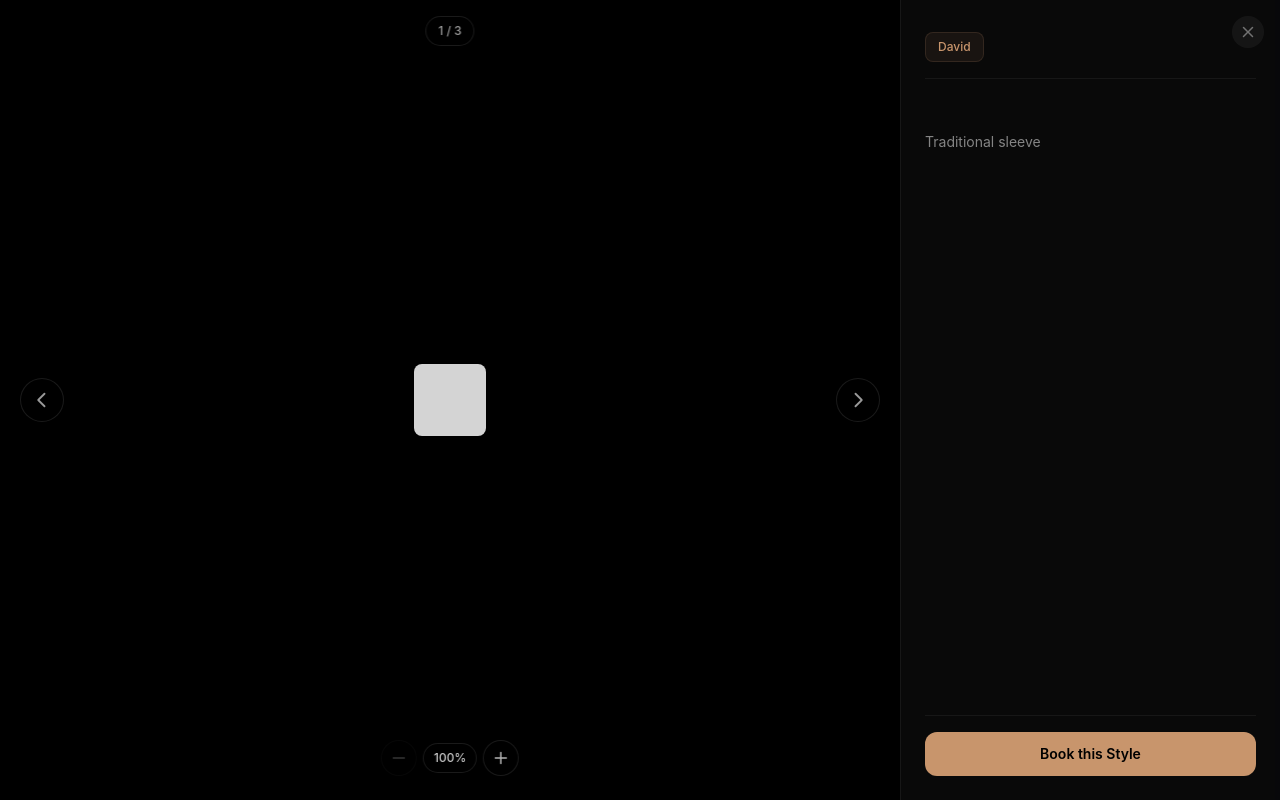
Test: PhotoLightbox Component › Zoom Controls › should disable zoom in at 300%
This screenshot has width=1280, height=800.
Click the button named "Zoom in": click(501, 758) [483, 740, 519, 776]
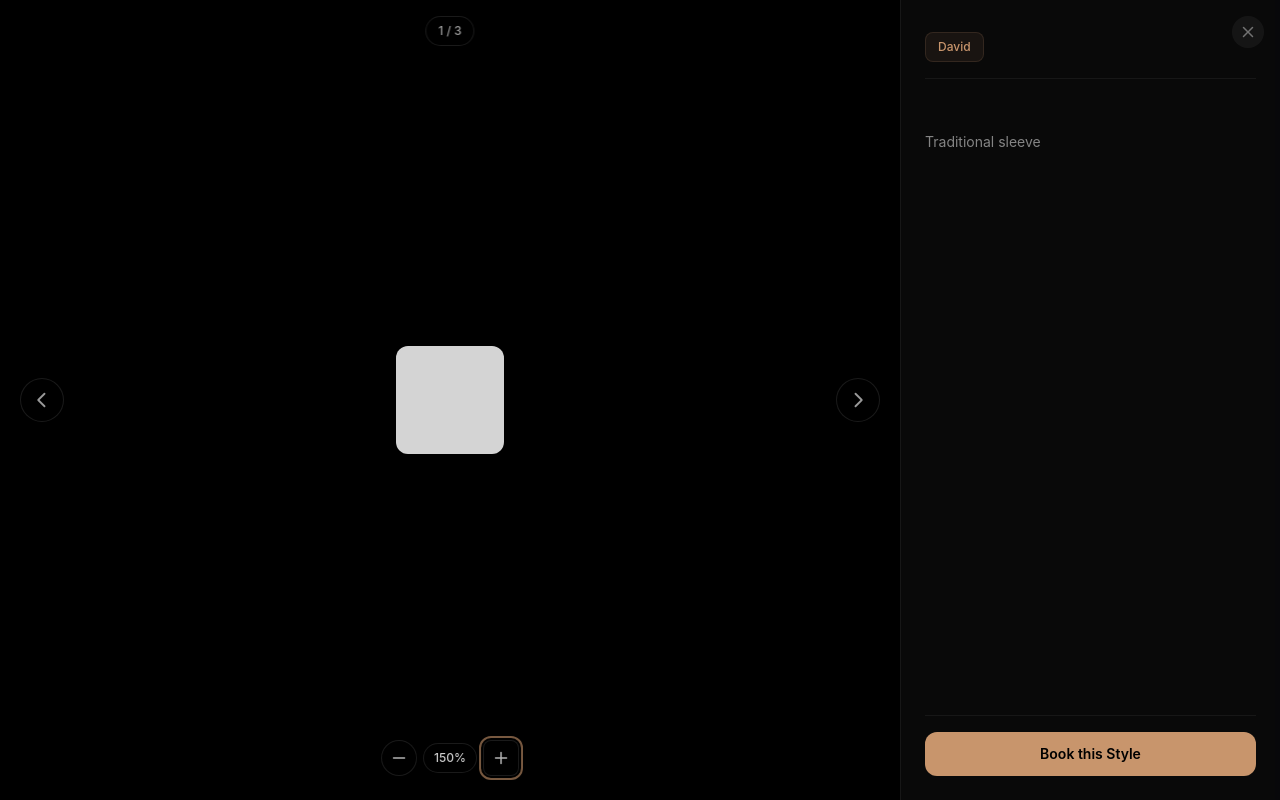
Click the button named "Zoom in": click(501, 758) [483, 740, 519, 776]
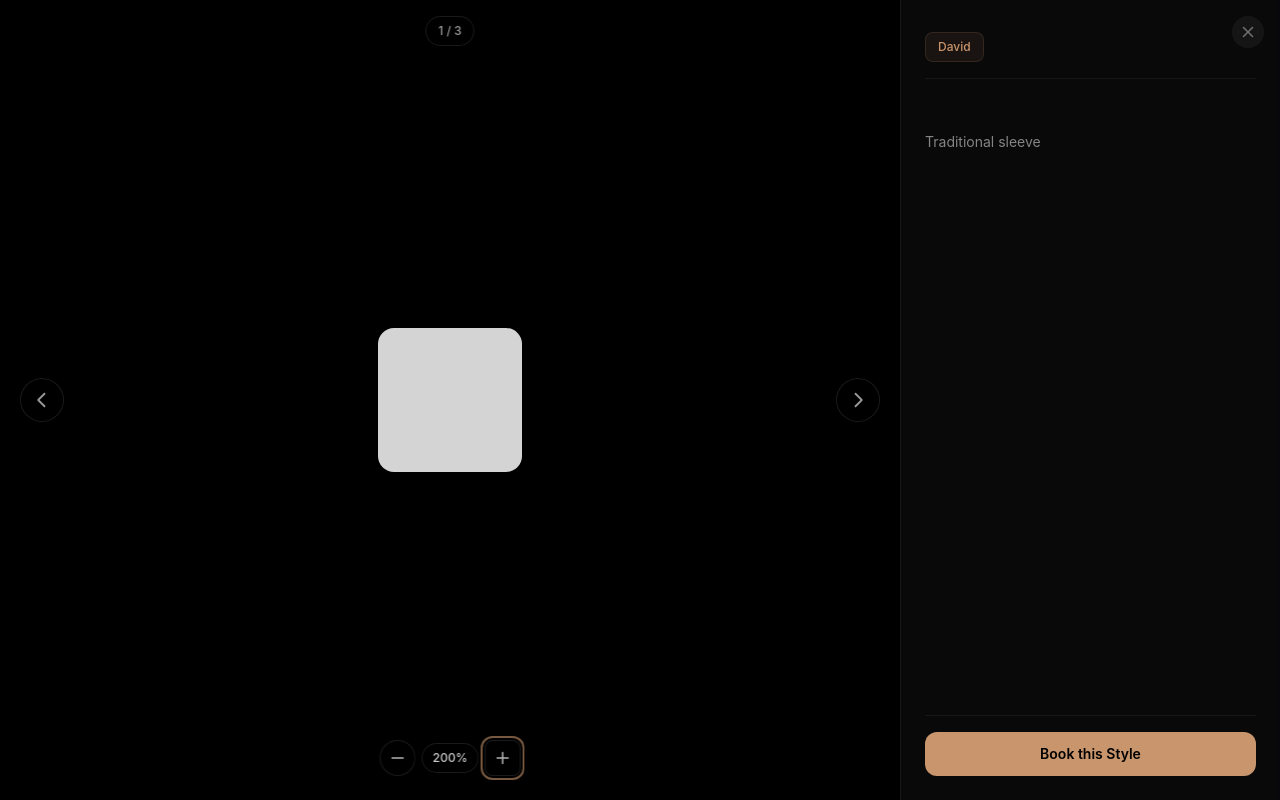
Click the button named "Zoom in": click(502, 758) [484, 740, 520, 776]
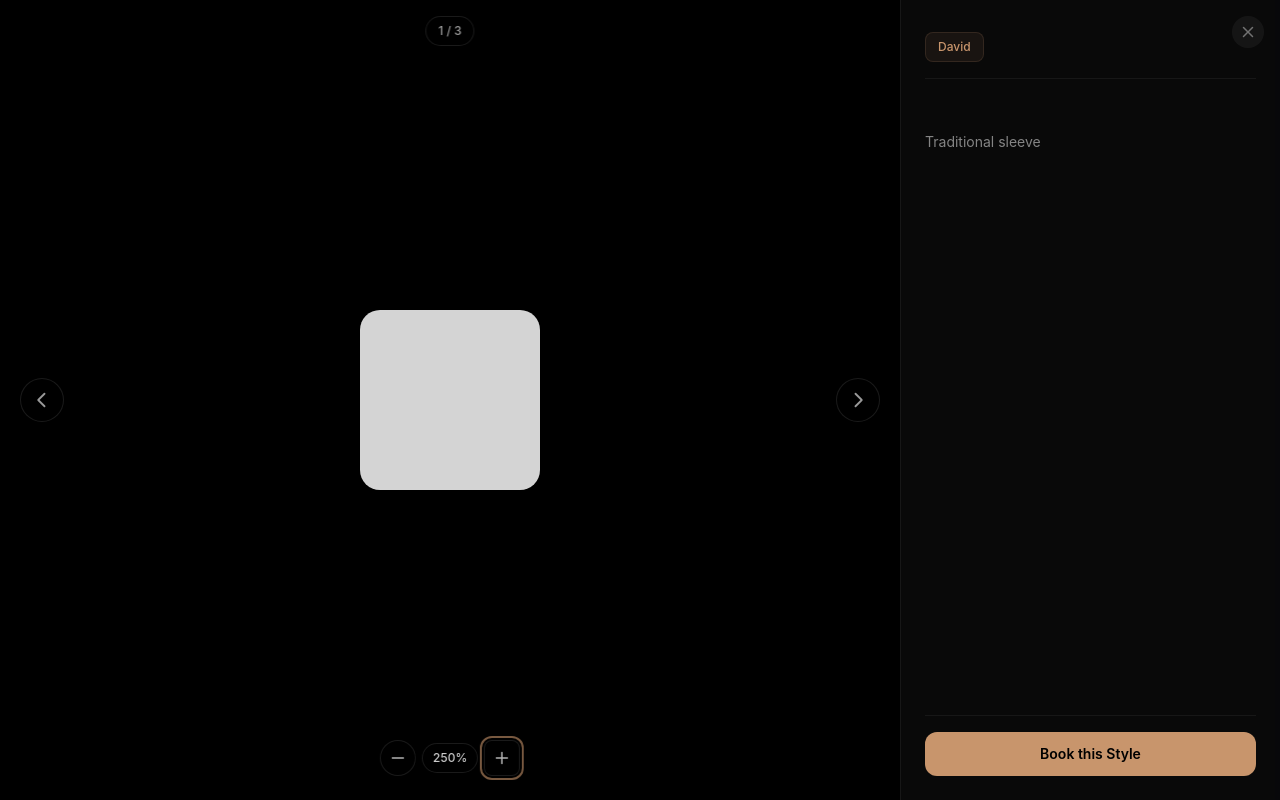
Click the button named "Zoom in": click(502, 758) [484, 740, 520, 776]
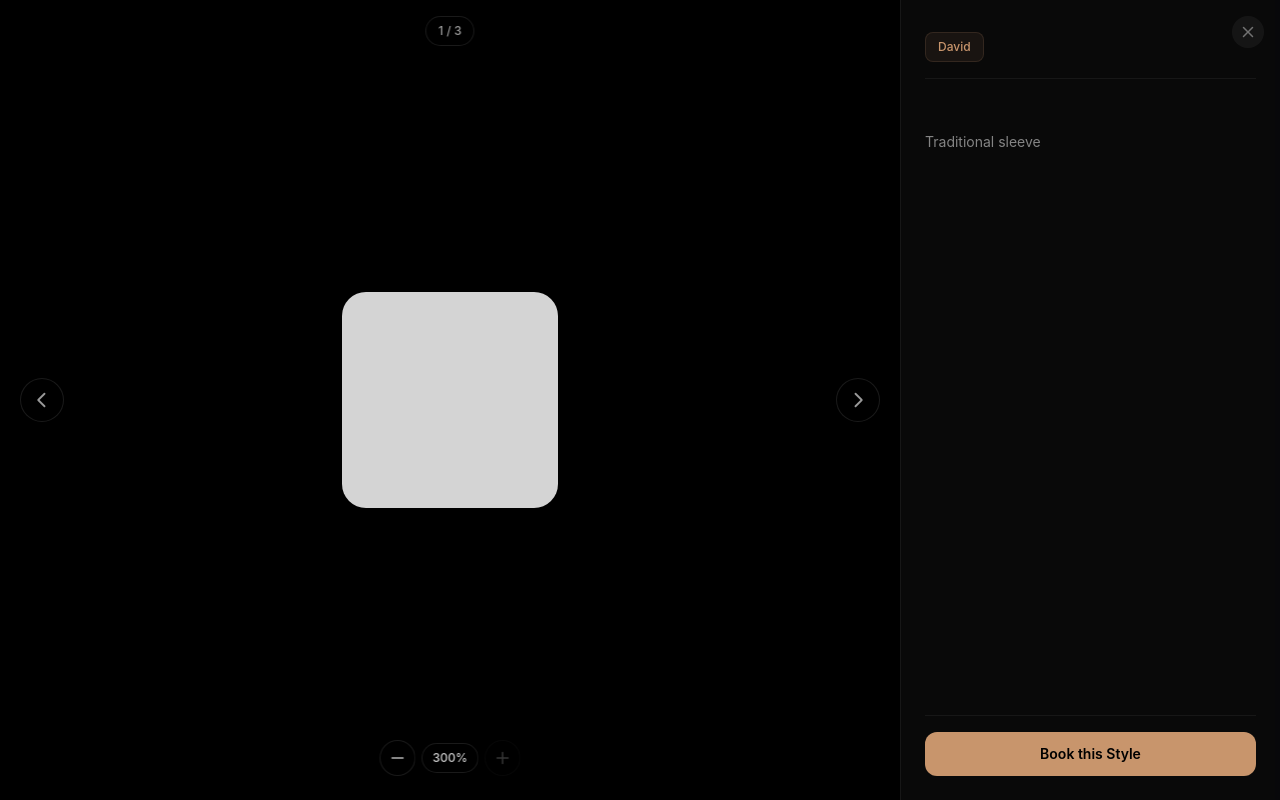
Expected: the text "300%" is shown, [422, 743, 478, 773]
Expected: the button named "Zoom in" is disabled, [484, 740, 520, 776]
